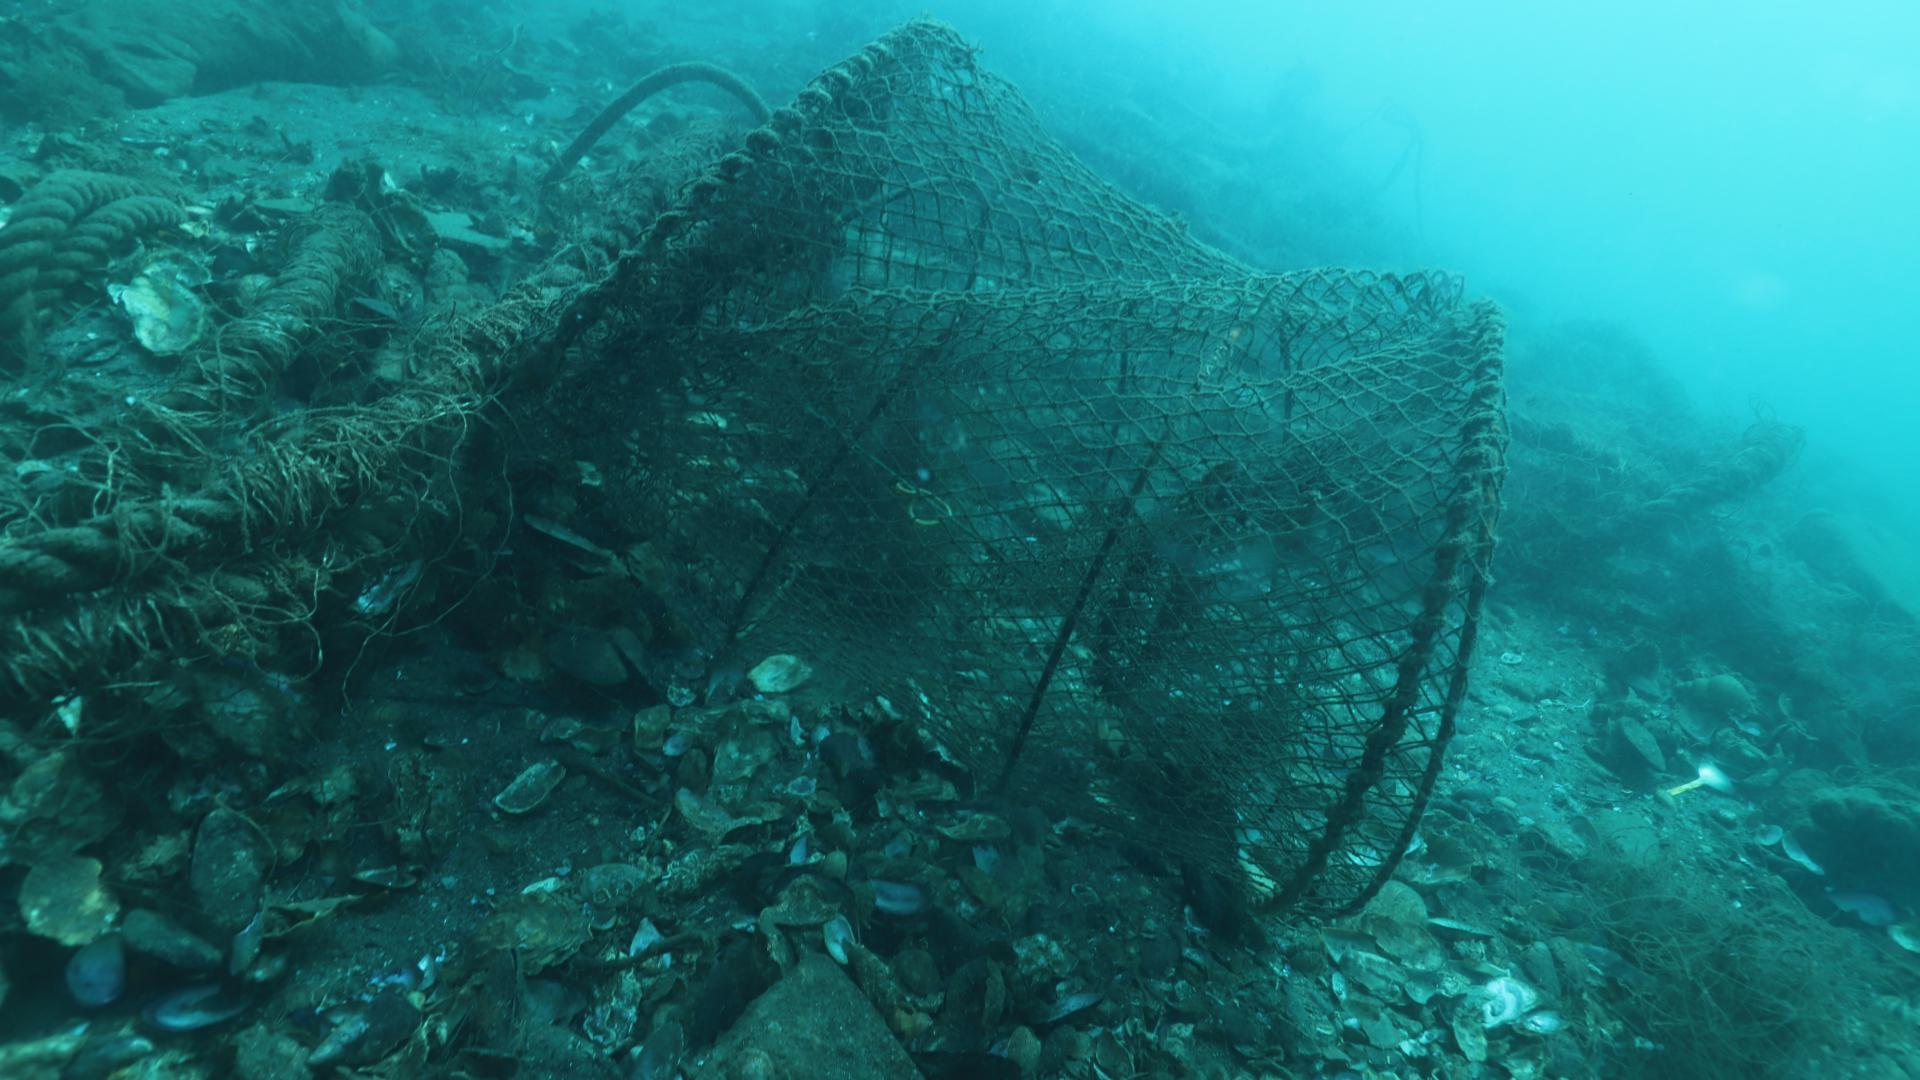bundle of ropes: (0, 164, 193, 361)
rope: (0, 495, 233, 608), (223, 225, 357, 357)
spring fish trap: (480, 16, 1509, 967)
